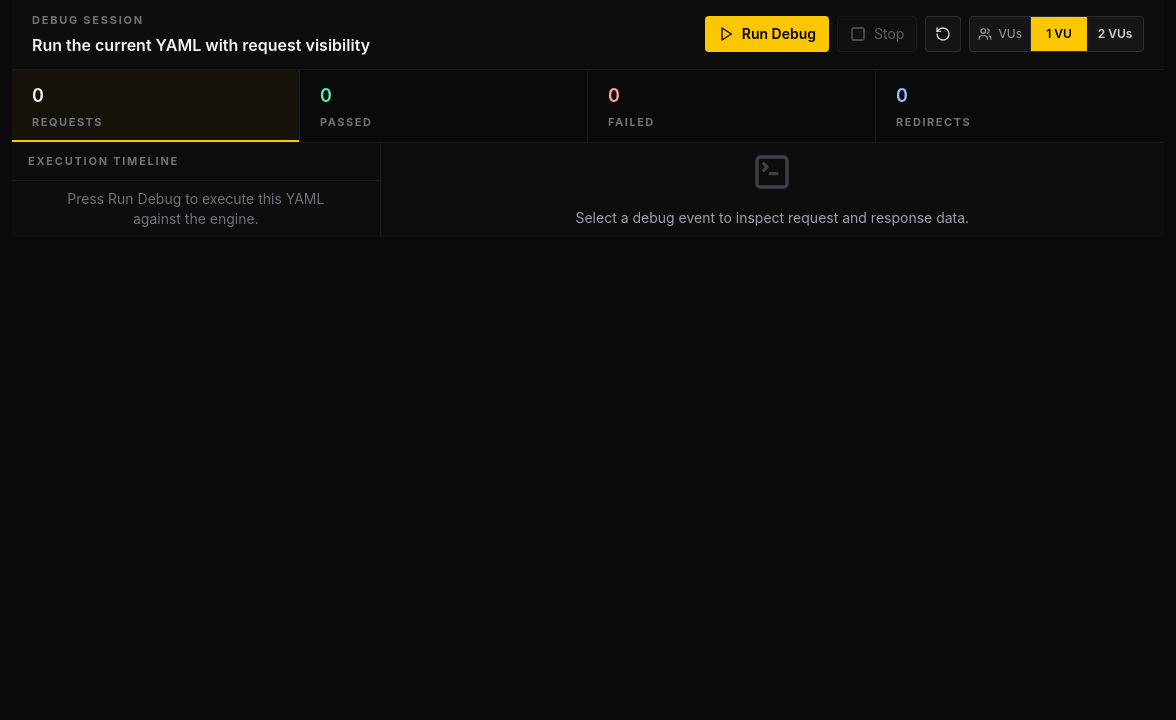
Test: YAMLDebugSession RLP debug fixes › filters the execution timeline from the Debug summary cards
This screenshot has width=1176, height=720.
Click the button "Run Debug" at (767, 34), box top-left (705, 16), bottom-right (829, 52)
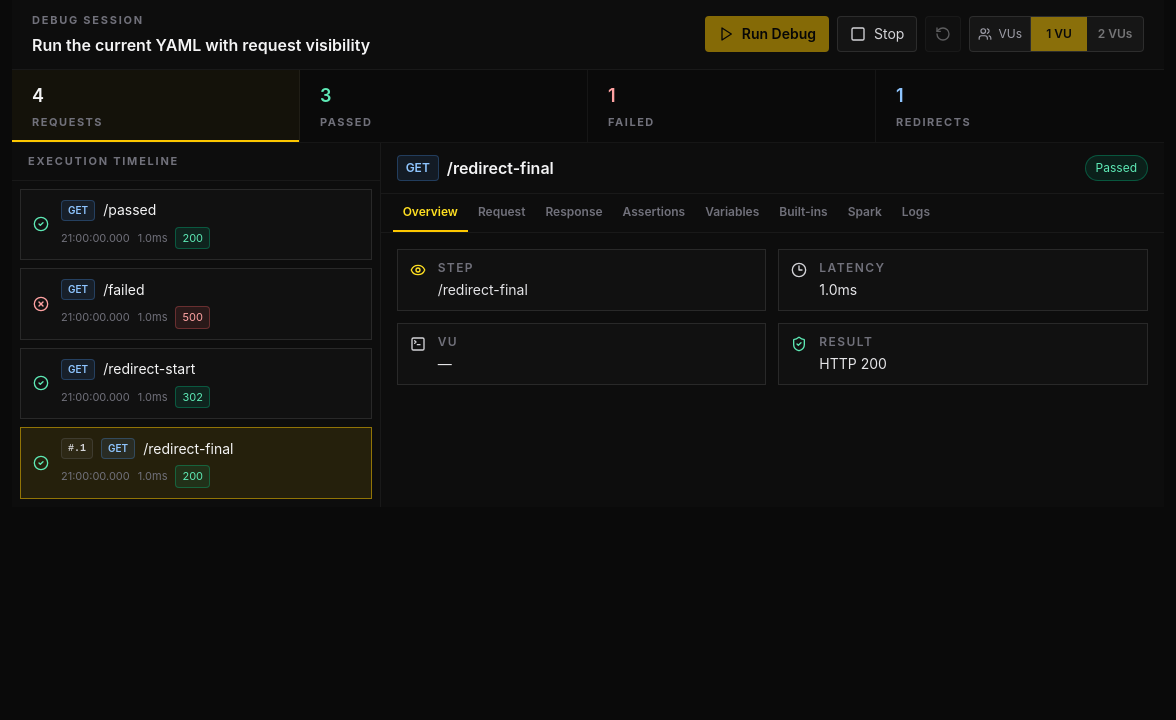
Now the button "GET /passed 21:00:00.000 1.0ms 200" is shown, box top-left (20, 188), bottom-right (372, 260)
Now the button "GET /failed 21:00:00.000 1.0ms 500" is shown, box top-left (20, 268), bottom-right (372, 340)
Now the button "#.1 GET /redirect-final 21:00:00.000 1.0ms 200" is shown, box top-left (20, 427), bottom-right (372, 498)
Click the button with aria-label "Failed:" at (631, 122), box top-left (588, 70), bottom-right (876, 142)
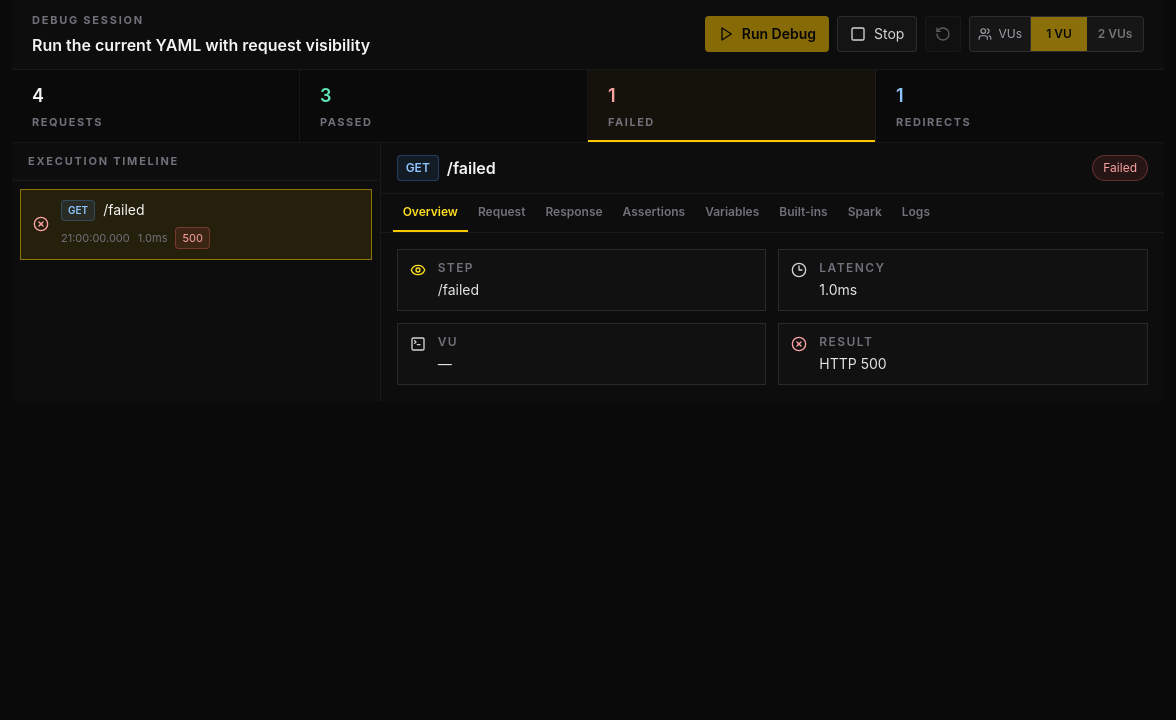
Now the button "GET /failed 21:00:00.000 1.0ms 500" is shown, box top-left (20, 188), bottom-right (372, 260)
Now the button "GET /passed" is gone
Now the button "#.1 GET /redirect-final" is gone
Click the button with aria-label "Redirects:" at (934, 122), box top-left (876, 70), bottom-right (1164, 142)
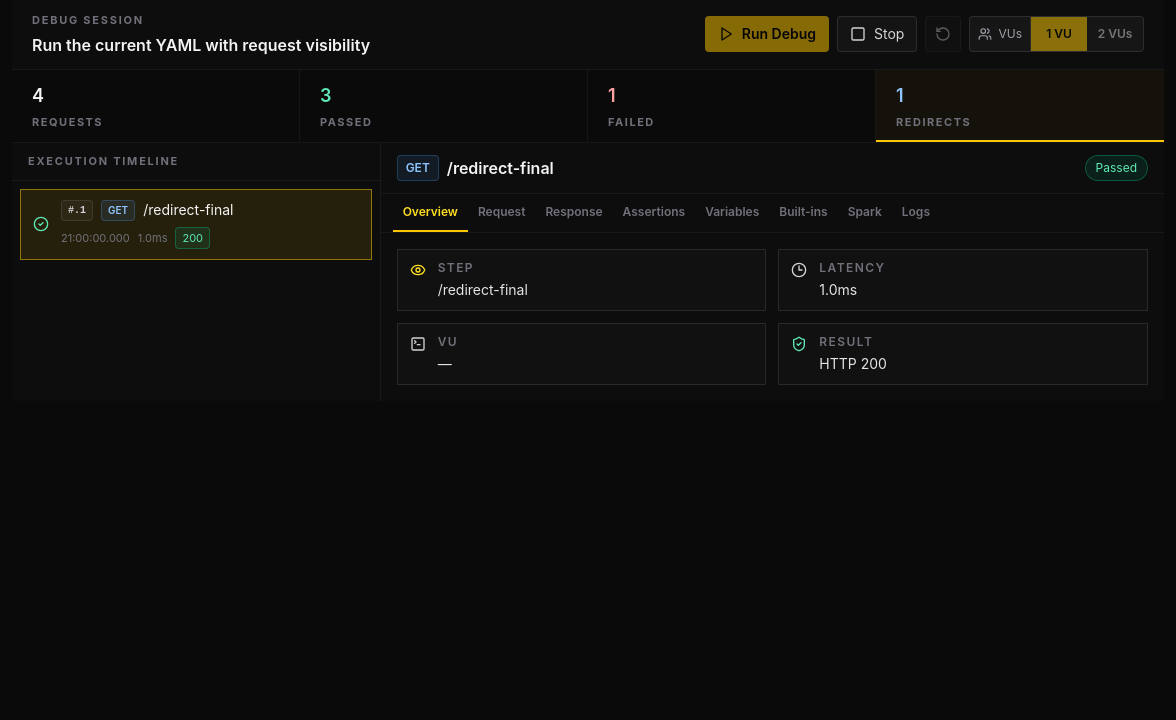
Expected: the button "GET /redirect-start" is not shown
Now the button "#.1 GET /redirect-final 21:00:00.000 1.0ms 200" is shown, box top-left (20, 188), bottom-right (372, 260)
Now the button "GET /failed" is gone
Click the button with aria-label "Passed:" at (346, 122), box top-left (300, 70), bottom-right (588, 142)
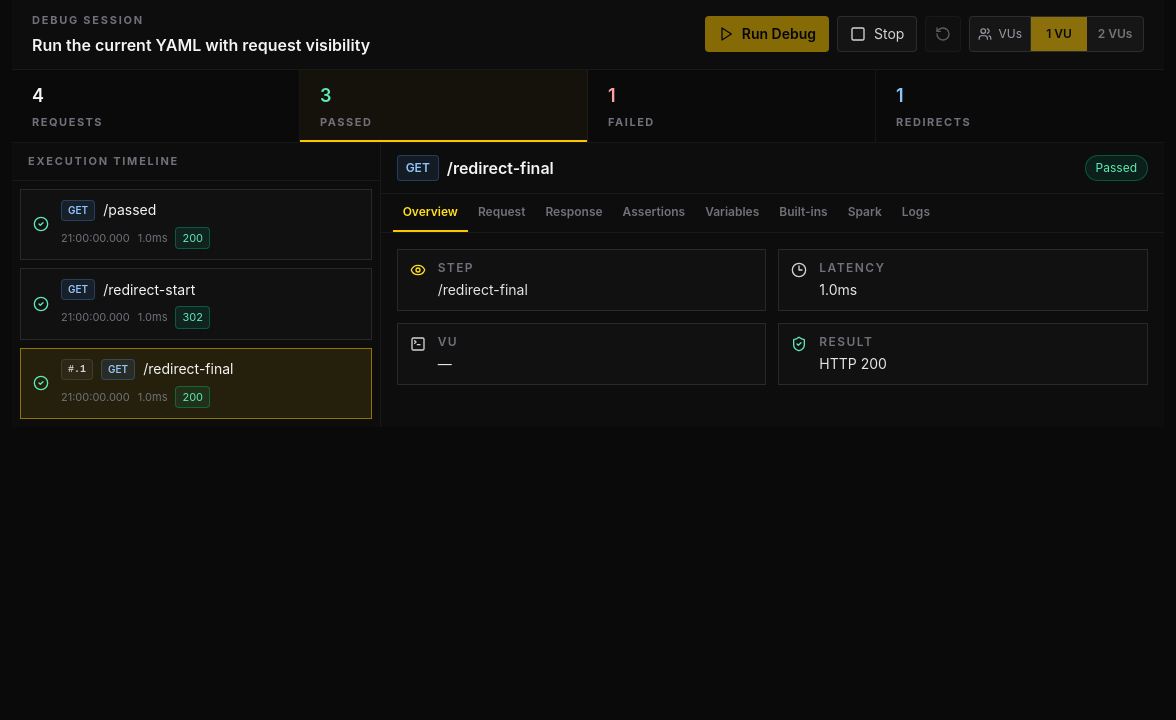
Expected: the button "GET /failed" is not shown
Now the button "GET /passed 21:00:00.000 1.0ms 200" is shown, box top-left (20, 188), bottom-right (372, 260)
